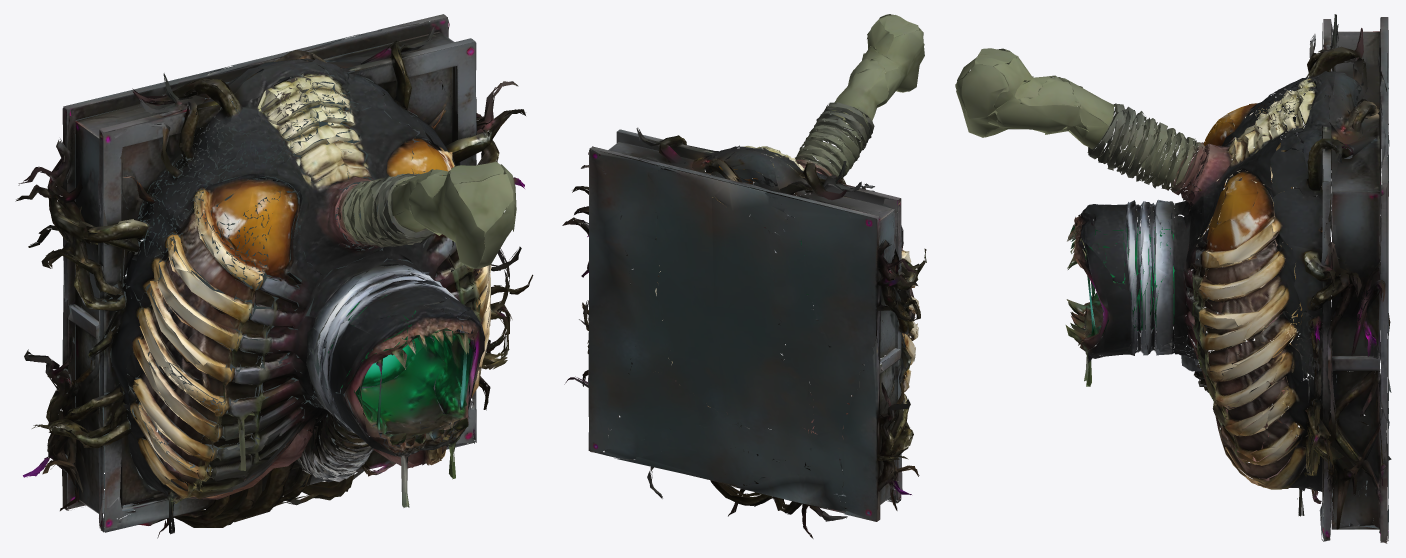
Rendered from hive_pulmonary_bellows.glb.
The picture shows the model from 3 angles, left to right: view 1: azimuth 30°, elevation 25°; view 2: azimuth 150°, elevation 25°; view 3: azimuth 270°, elevation 25°; orthographic projection. The views are drawn at different scales.
Visible parts, largest first — view 1: node_0; view 2: node_0; view 3: node_0.
Boxes of the visible parts, x1,y1,x2,y2 form: node_0: [15, 14, 533, 538]; node_0: [562, 14, 926, 538]; node_0: [955, 14, 1391, 543].
Size of the model in its own units: 0.8479 by 0.8485 by 0.7341.
Materials: 1 (1 with a texture image).
